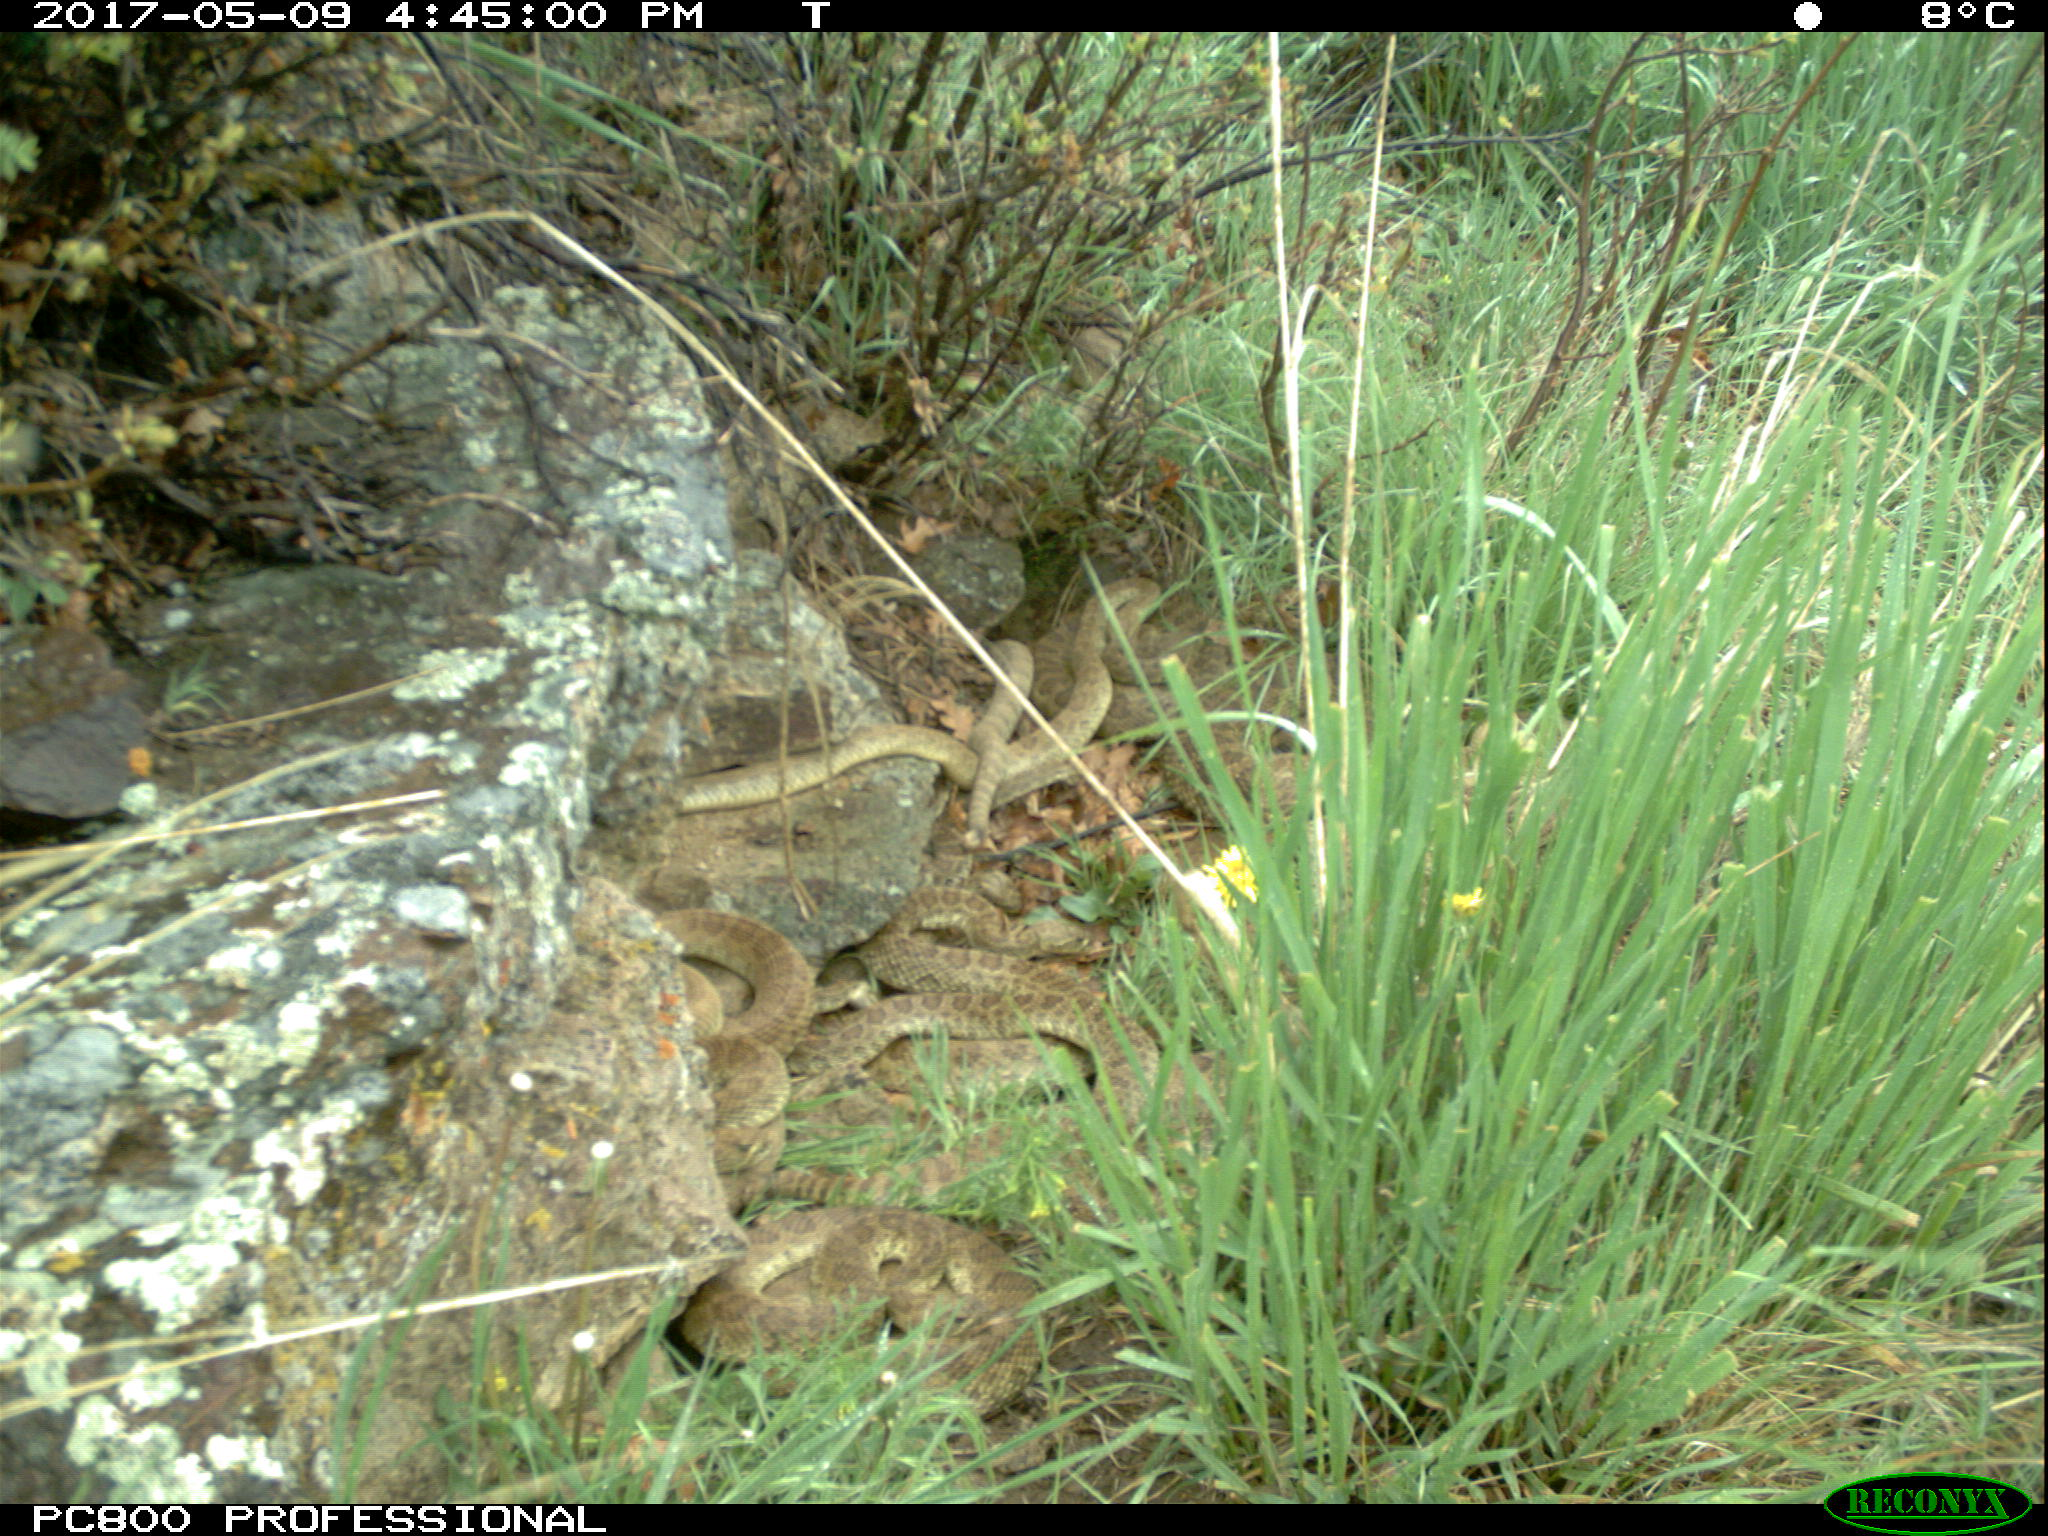snake: (685, 1205, 1051, 1418), (816, 991, 1159, 1155), (684, 721, 1059, 807), (863, 889, 1114, 1000), (655, 912, 816, 1047), (1061, 573, 1180, 728), (966, 634, 1035, 866), (713, 1047, 785, 1199)
